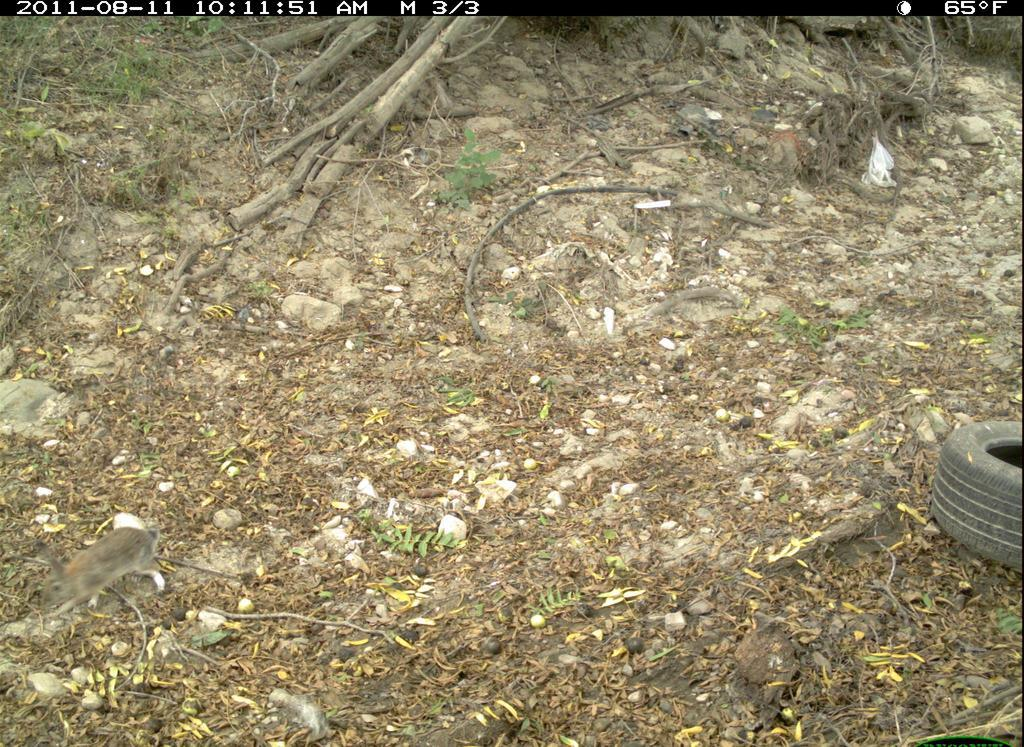rabbit: (33, 525, 171, 624)
